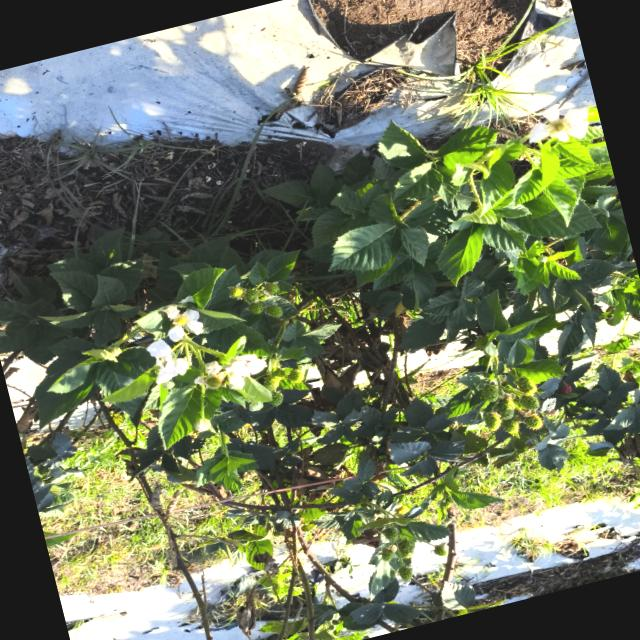boton: (194, 418, 211, 432), (248, 400, 263, 411)
flor: (146, 339, 189, 383), (221, 354, 266, 389), (164, 305, 203, 341)
